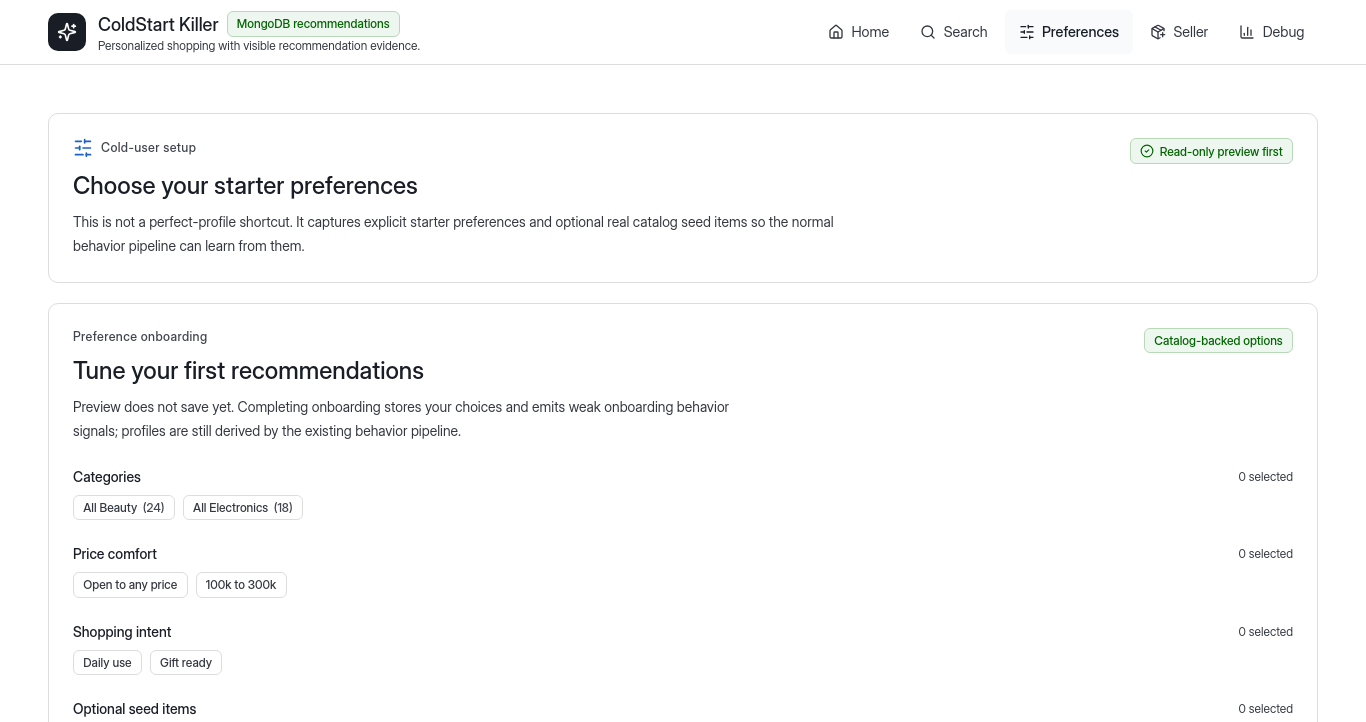
Scenario: Phase 11 routes › renders onboarding and previews preferences without saving
Expected: the heading "Choose your starter preferences" is shown, [73, 171, 418, 200]
Click the button "All Beauty (24)".
click(124, 507)  # box [73, 495, 175, 520]
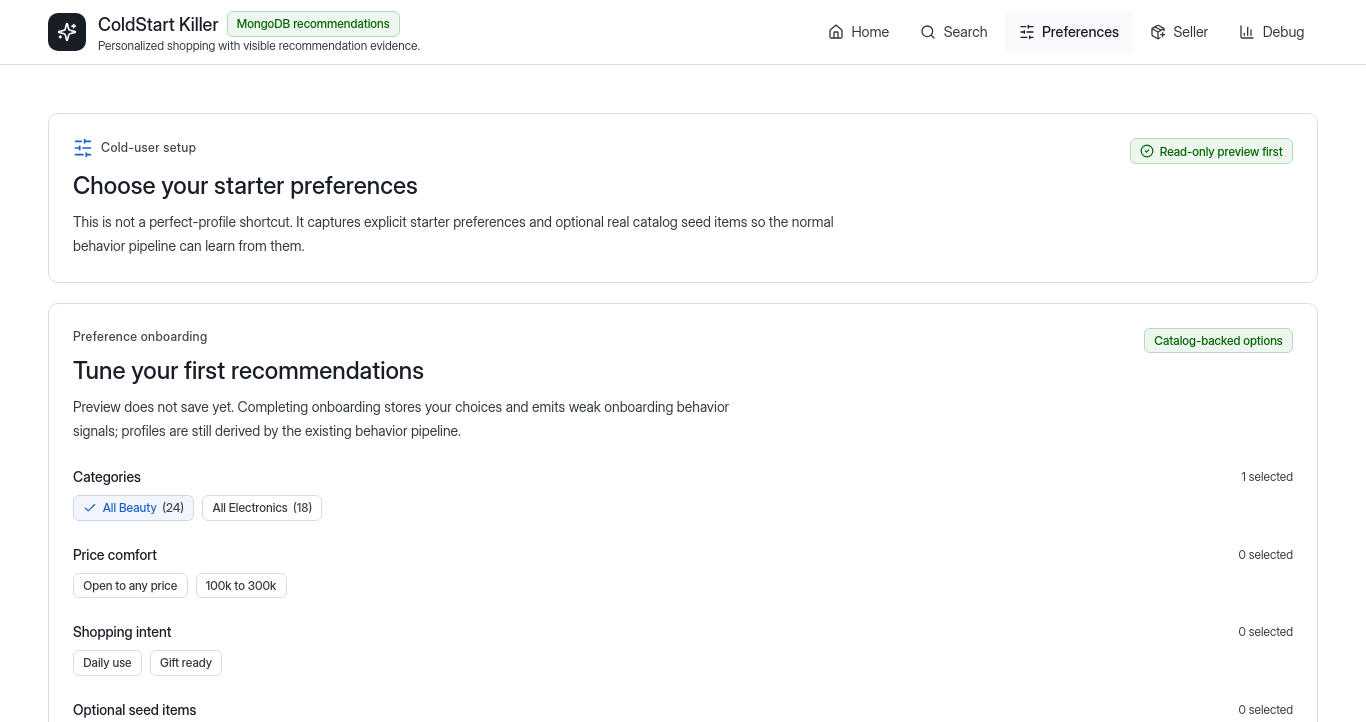
Click the button "100k to 300k".
click(241, 586)  # box [196, 573, 287, 598]
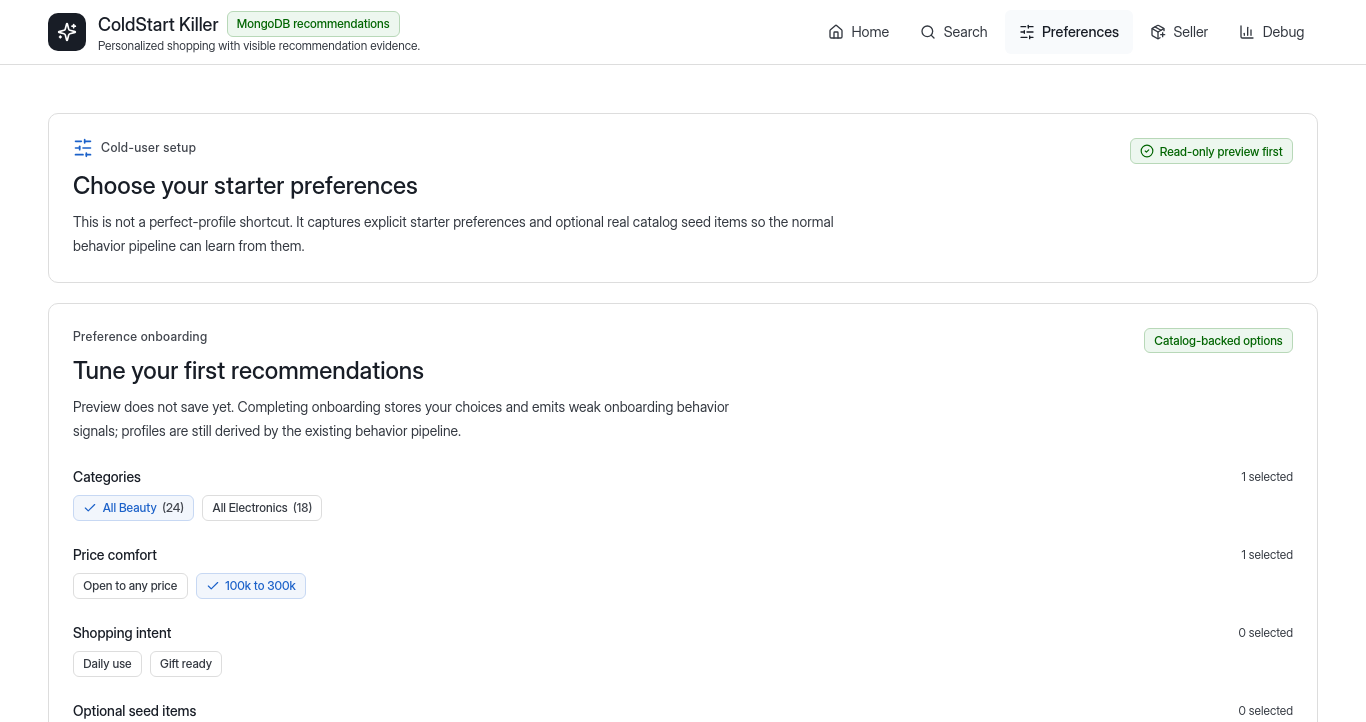
Click the button "Daily use".
click(107, 664)  # box [73, 651, 142, 677]
(page scrolled)
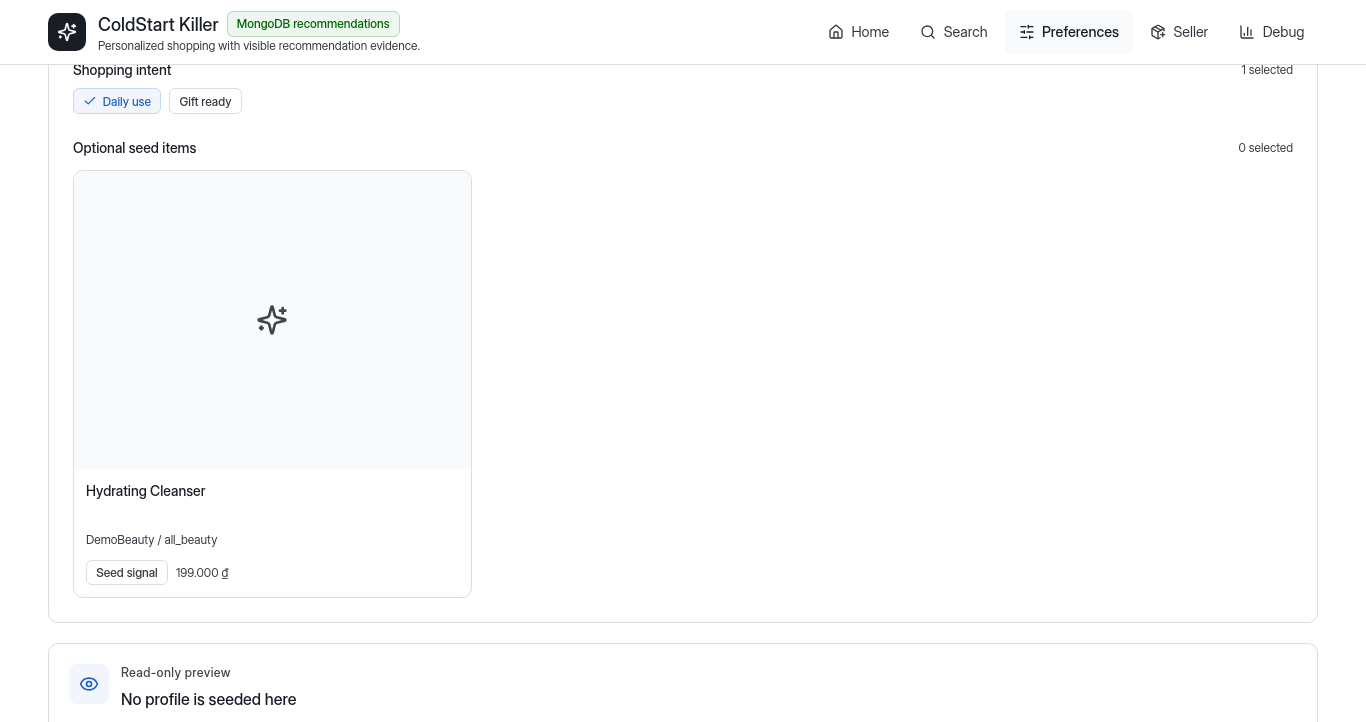
Click the button "Hydrating Cleanser".
click(272, 384)  # box [73, 170, 472, 598]
(page scrolled)
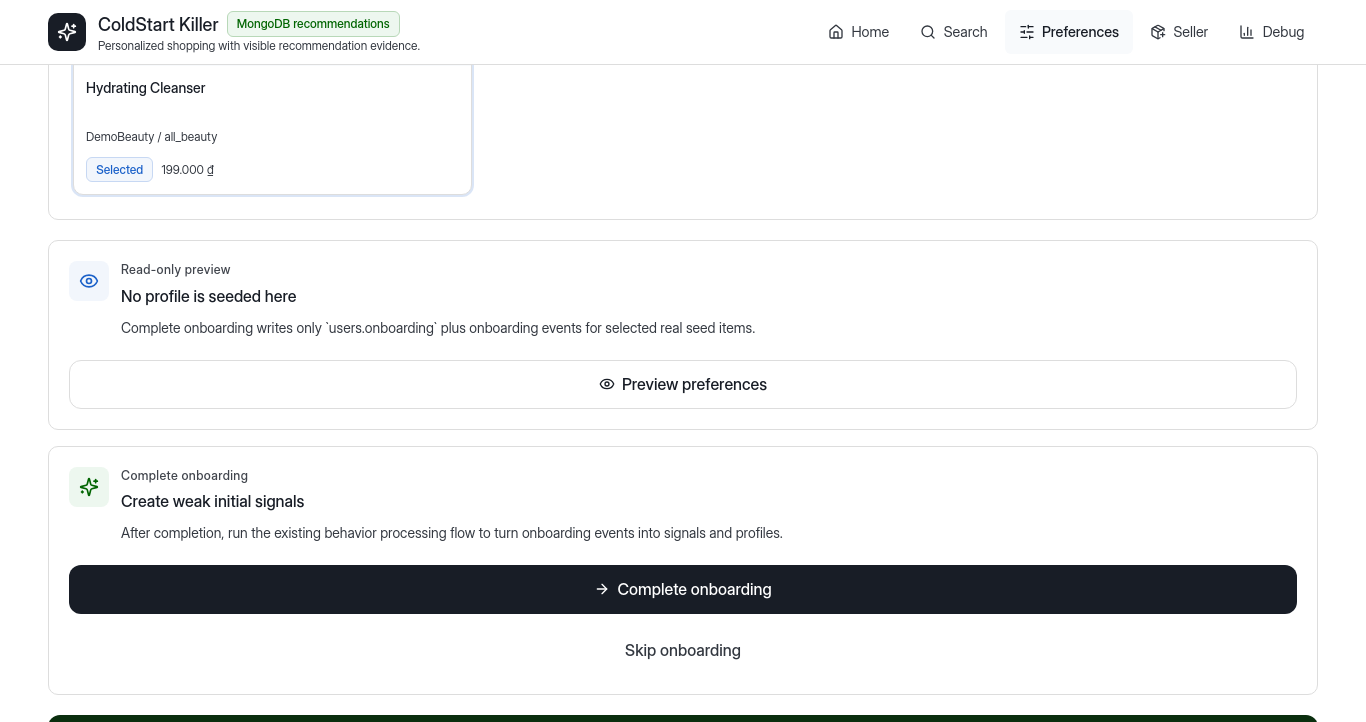
Click the button "Preview preferences".
click(683, 384)  # box [69, 360, 1297, 409]
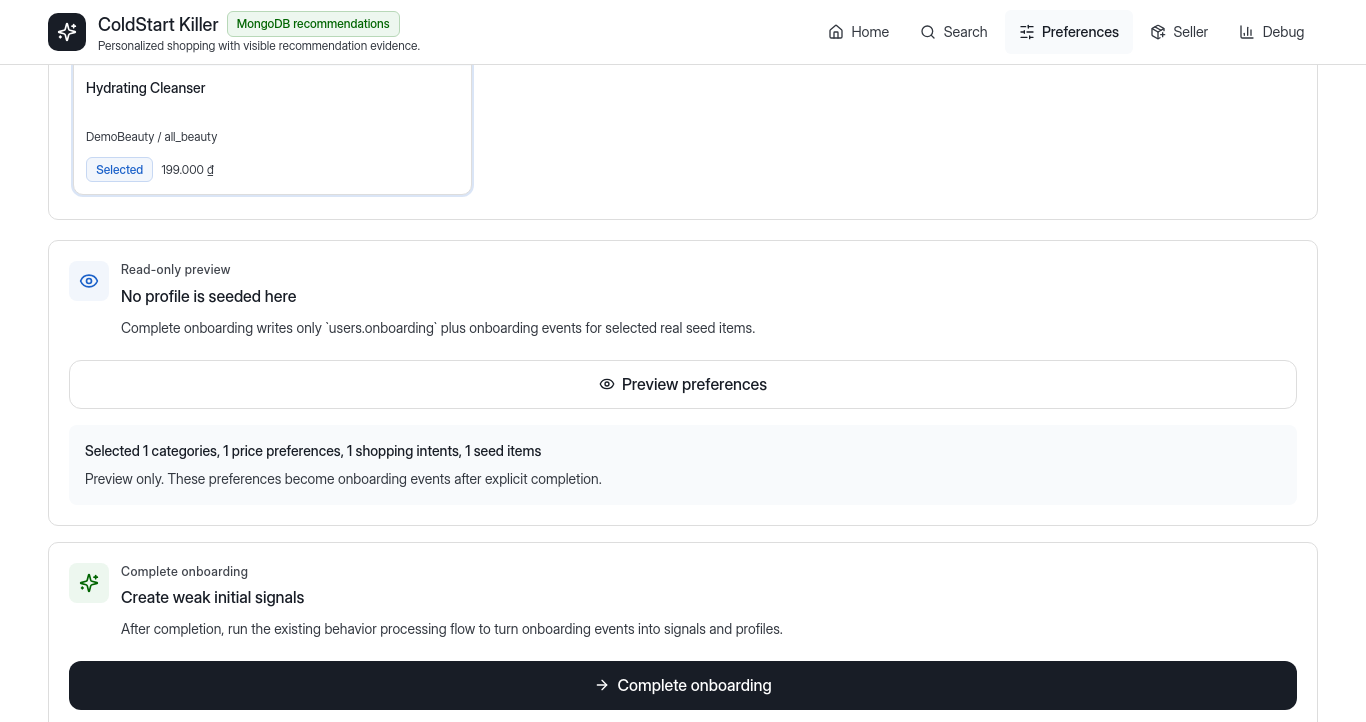
Result: the text "Selected 1 categories" is shown at [85, 442, 541, 459]
